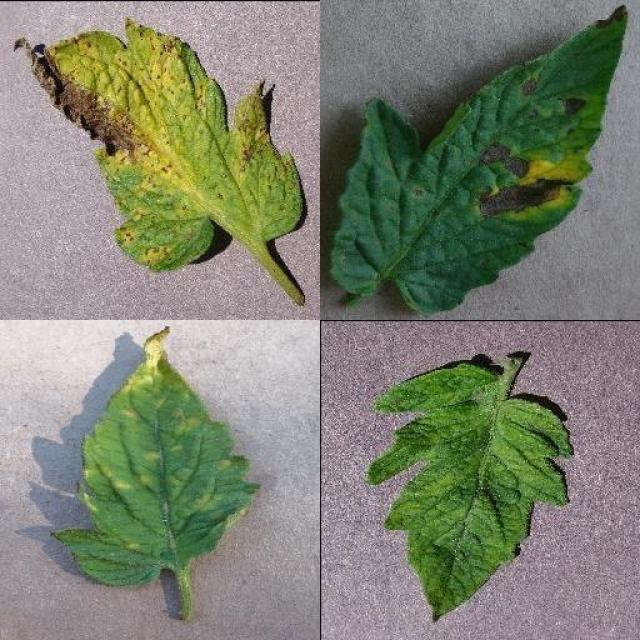Early Blight: (328, 2, 632, 318)
Septoria: (15, 15, 305, 270)
